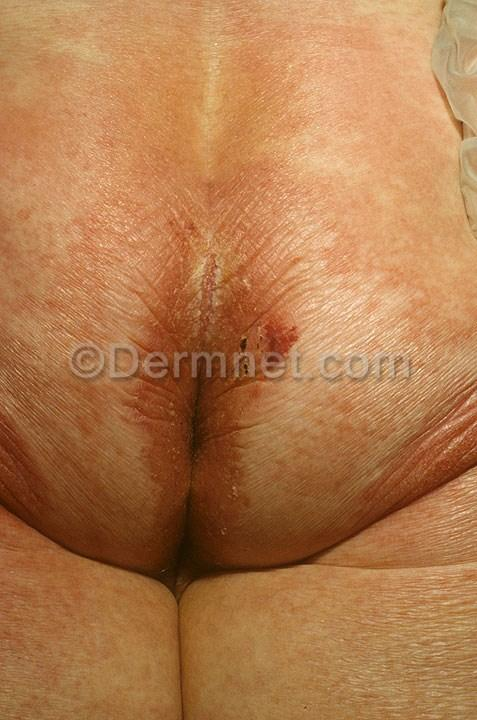Eczema: (126, 383, 278, 561), (261, 68, 384, 252), (42, 52, 162, 191), (155, 215, 239, 342), (246, 299, 323, 355)
